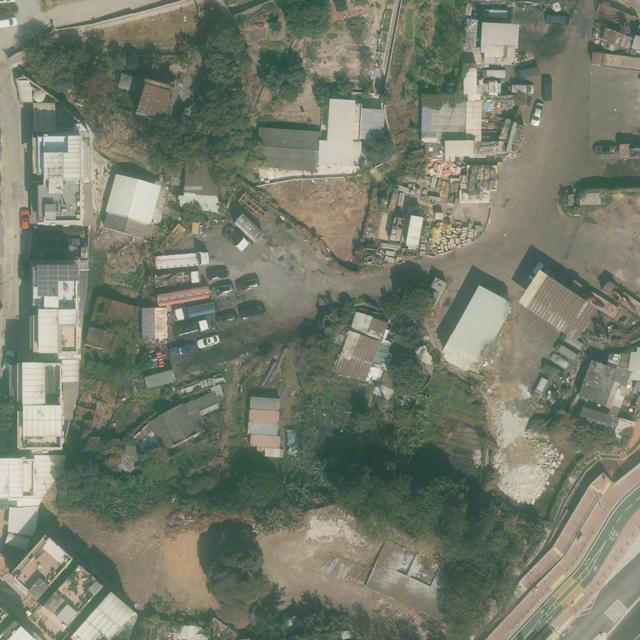panel: (37, 264, 58, 296), (57, 264, 79, 280)
